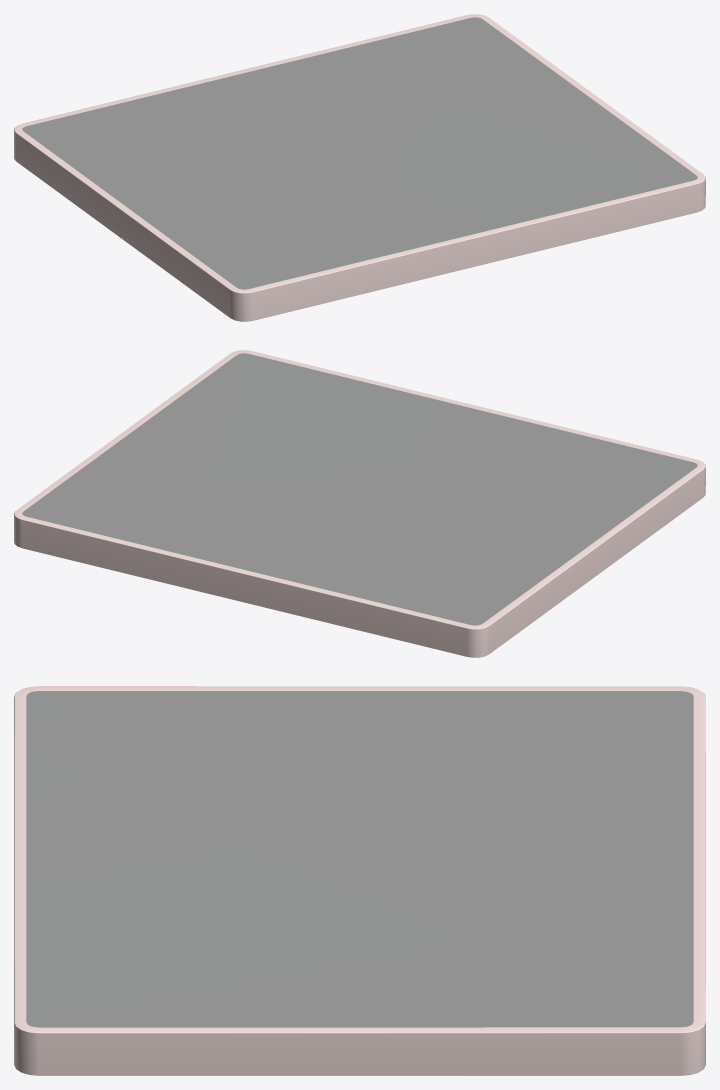
The model's file is Public_11_Base_1.glb.
The picture shows the model from 3 angles, top to bottom: view 1: azimuth 30°, elevation 25°; view 2: azimuth 150°, elevation 25°; view 3: azimuth 270°, elevation 25°; orthographic projection. The views are drawn at different scales.
Parts seen in each view (by area): view 1: Public_11_Base_1; view 2: Public_11_Base_1; view 3: Public_11_Base_1.
Part boxes in pixels (bbox=[...]): Public_11_Base_1: bbox=[14, 14, 705, 321]; Public_11_Base_1: bbox=[14, 350, 705, 657]; Public_11_Base_1: bbox=[14, 686, 705, 1075].
Bounding box in the file's own units: 20.7 × 1.21 × 17.44.
Materials: 1 (1 with a texture image).
